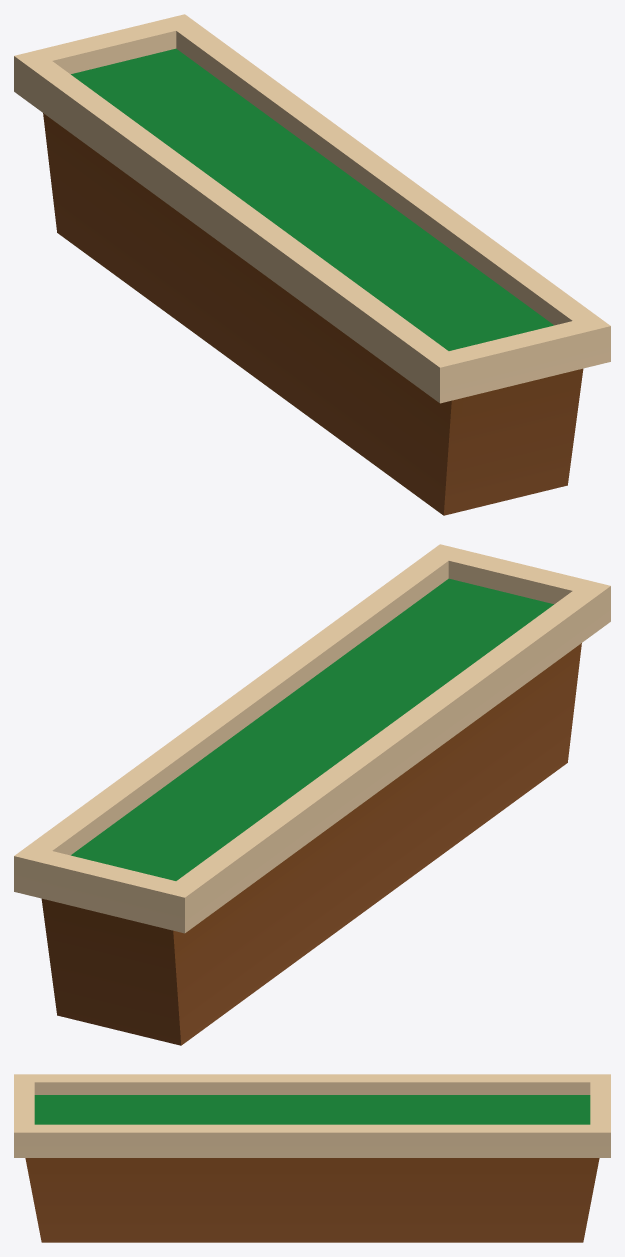
Rendered from FlowerPot_5_1_B.fbx.
3 views of the same model, one above another, from view 1: azimuth 30°, elevation 25°; view 2: azimuth 150°, elevation 25°; view 3: azimuth 270°, elevation 25° (orthographic). The views are drawn at different scales.
Visible parts, largest first — view 1: FlowerPot_5_1_B; view 2: FlowerPot_5_1_B; view 3: FlowerPot_5_1_B.
Part boxes in pixels (bbox=[...]): FlowerPot_5_1_B: bbox=[14, 14, 610, 515]; FlowerPot_5_1_B: bbox=[14, 544, 610, 1045]; FlowerPot_5_1_B: bbox=[14, 1074, 610, 1242].
Bounding box in the file's own units: 32.46 × 30.52 × 140.
